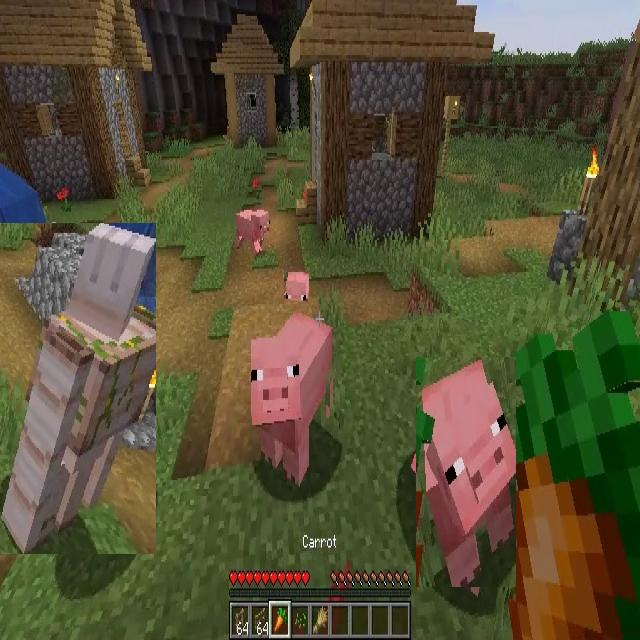people: (0, 223, 156, 554)
pig: (416, 358, 516, 588), (250, 313, 334, 481), (238, 209, 270, 254), (284, 271, 309, 305)
